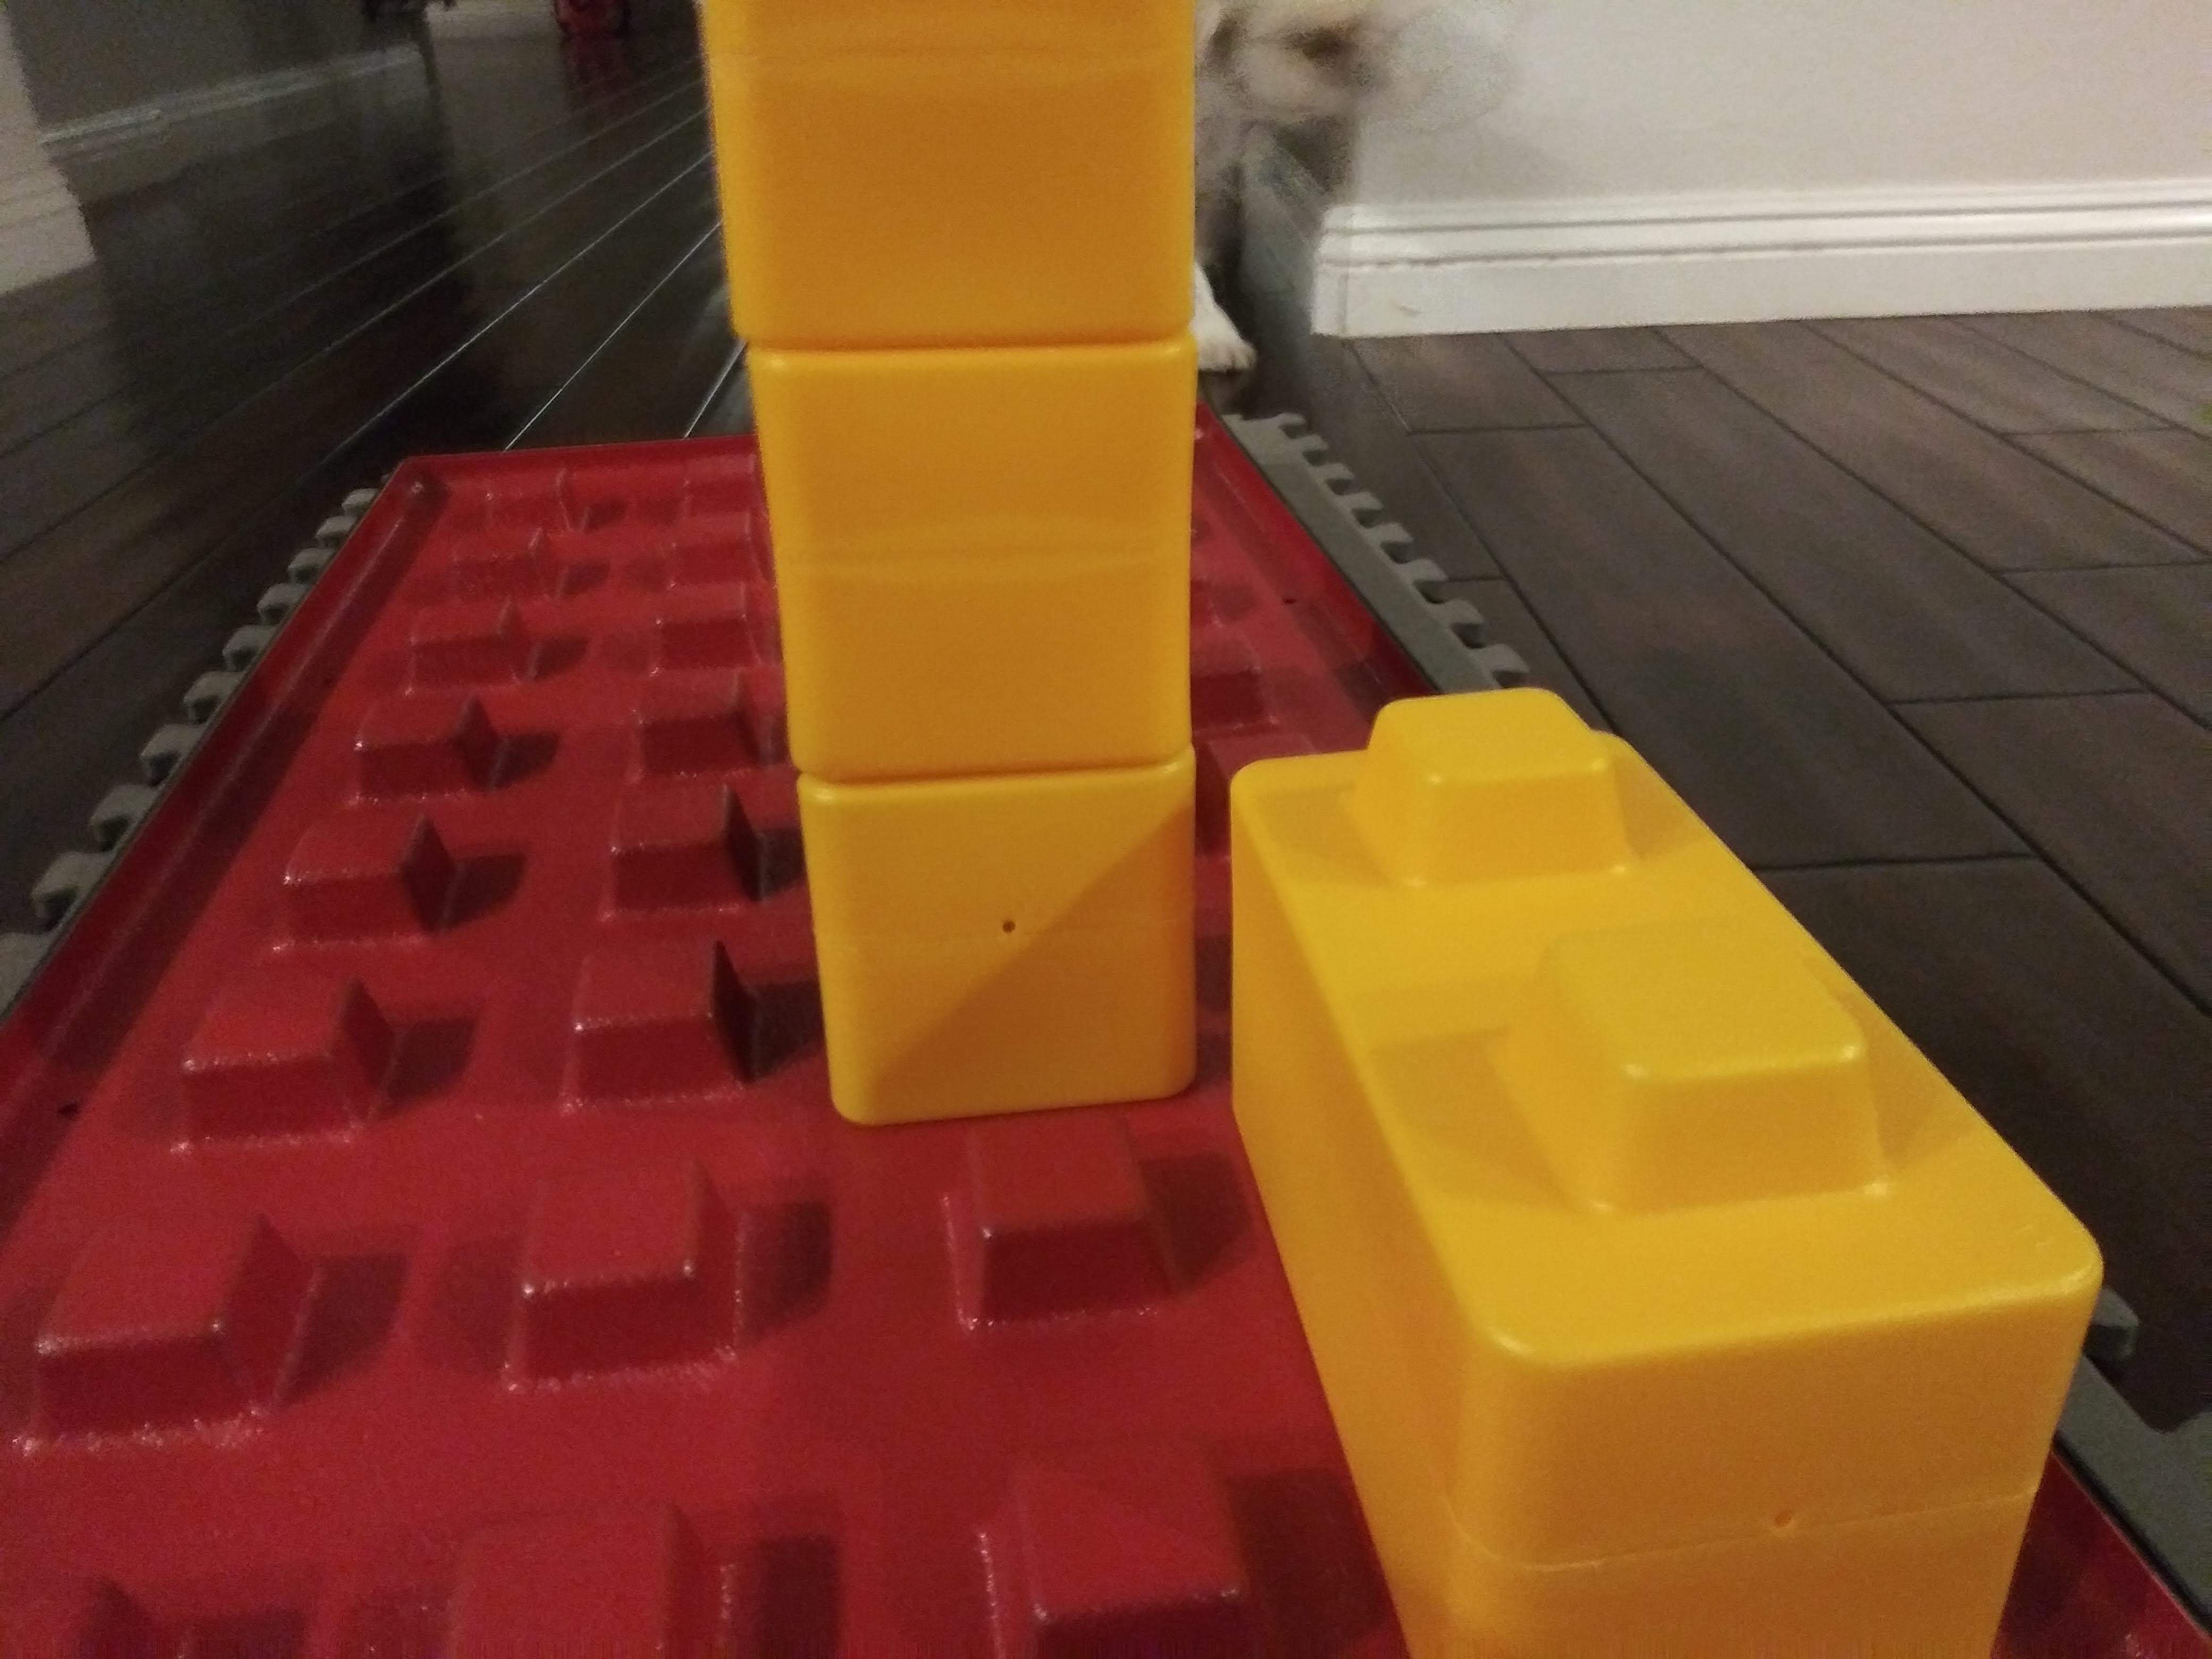red foundation: (80, 361, 1921, 1635)
